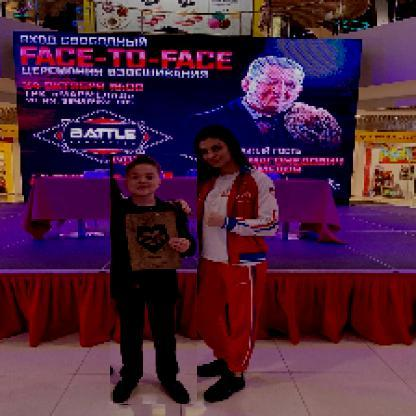child: (111, 155, 199, 406)
